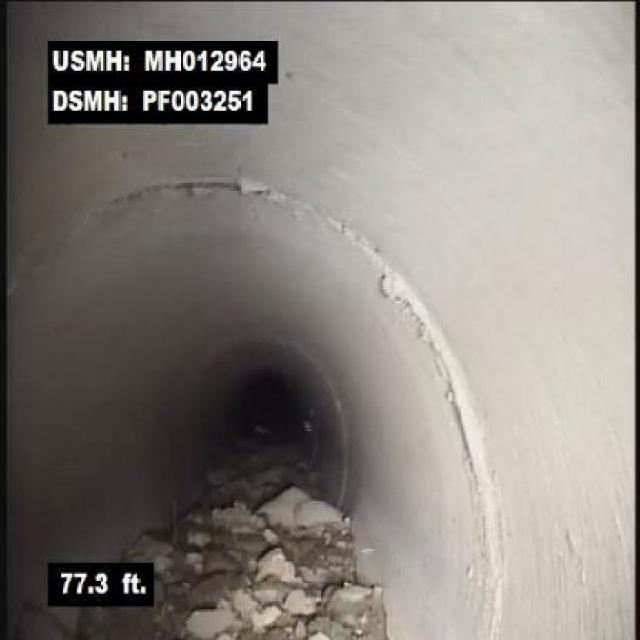Obstacle: (254, 432, 394, 638), (155, 451, 251, 638)
